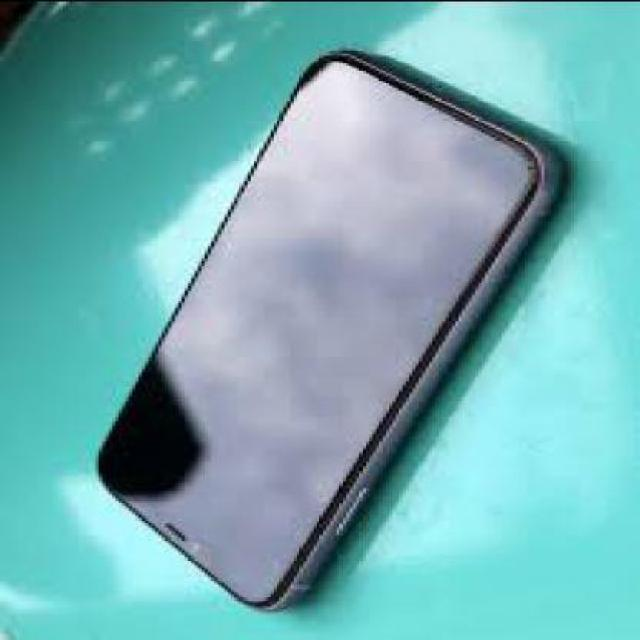mobile: (99, 48, 566, 610)
